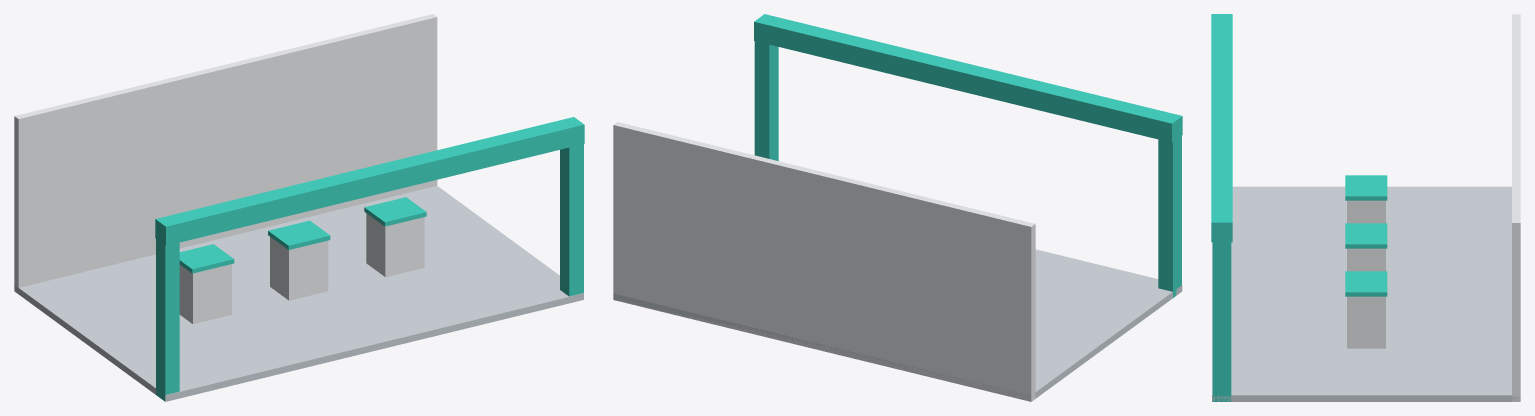
The picture shows the model from 3 angles, left to right: view 1: azimuth 30°, elevation 25°; view 2: azimuth 150°, elevation 25°; view 3: azimuth 270°, elevation 25°; orthographic projection. The views are drawn at different scales.
Visible parts, largest first — view 1: Exhibition Booth Concept; view 2: Exhibition Booth Concept; view 3: Exhibition Booth Concept.
Boxes of the visible parts, <box> form: Exhibition Booth Concept: <box>14,14,584,401</box>; Exhibition Booth Concept: <box>613,14,1182,401</box>; Exhibition Booth Concept: <box>1211,14,1520,401</box>.
Size of the model in its own units: 8 by 3.2 by 5.02.
